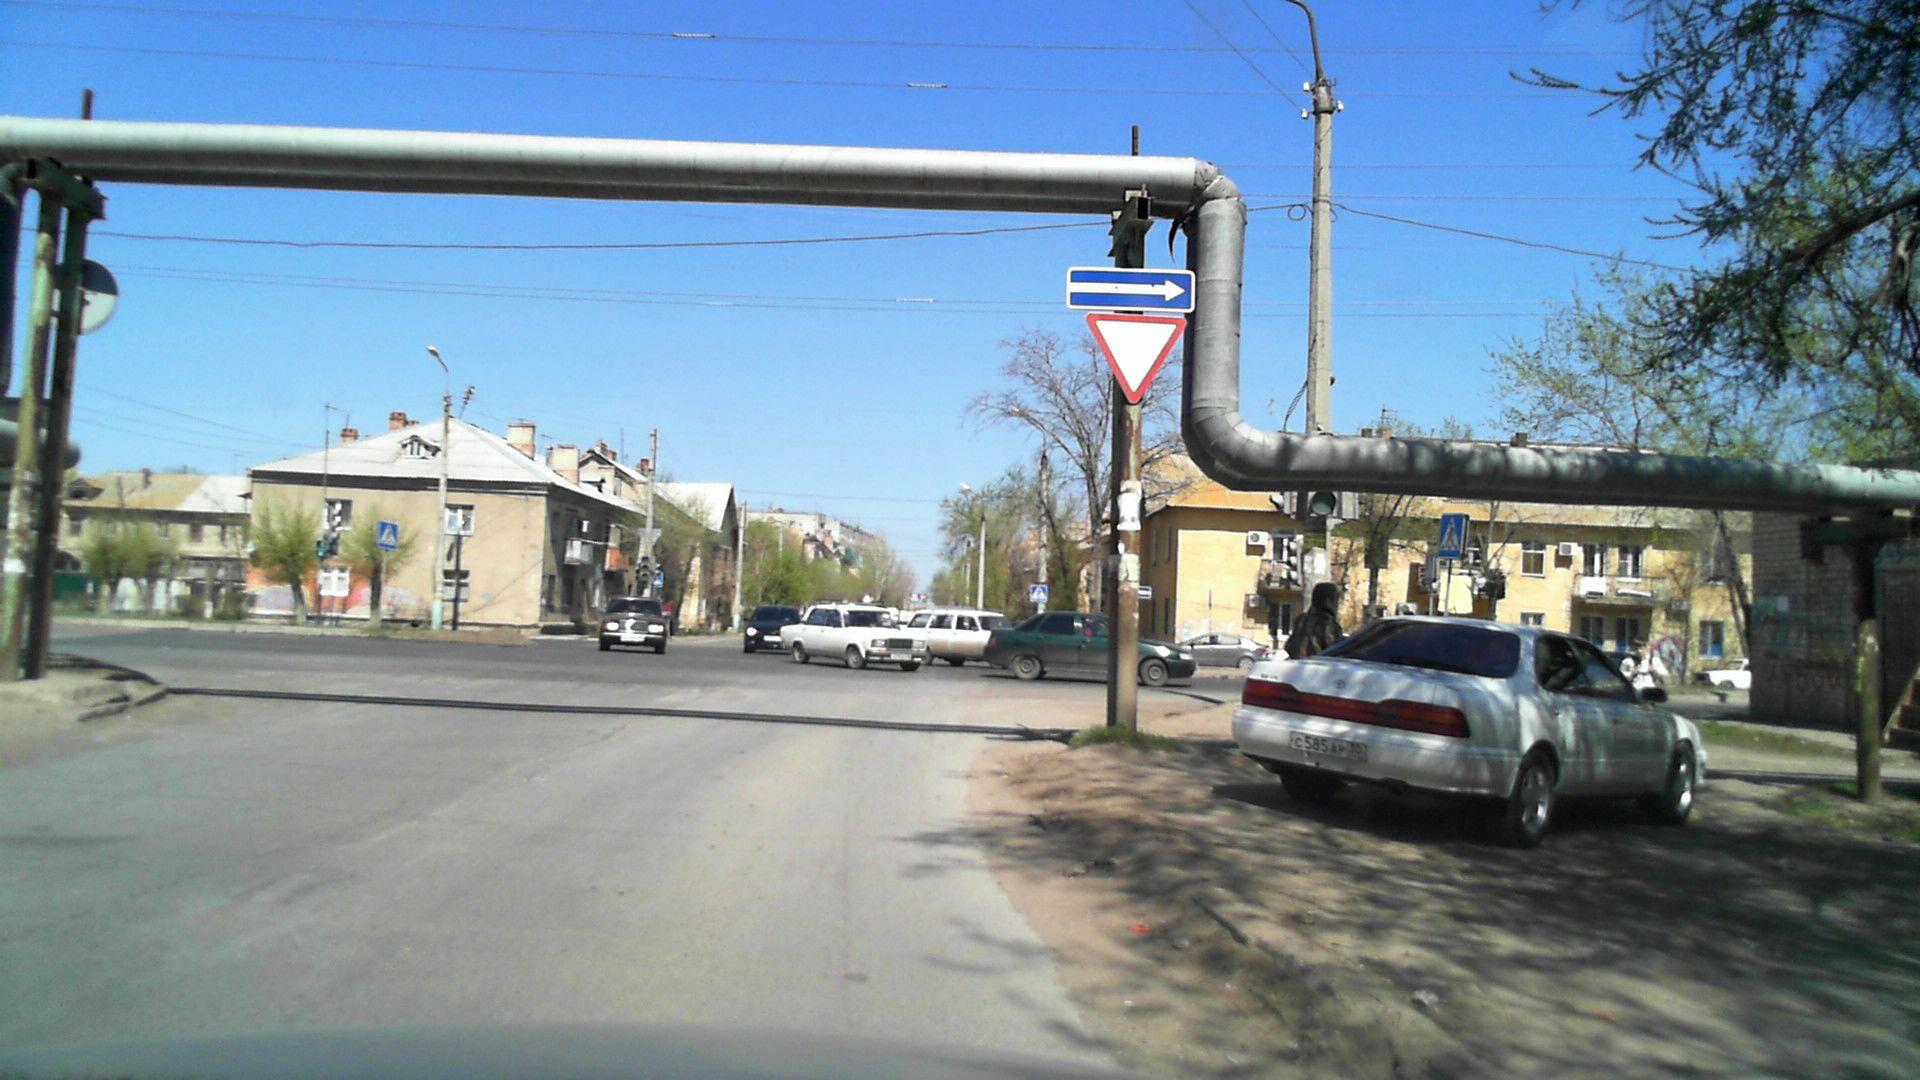2_4: (1080, 314, 1185, 402)
5_19_1: (1437, 516, 1468, 559), (1030, 582, 1051, 604)
5_19_2: (376, 521, 404, 551), (651, 570, 665, 589)
5_7_1: (1065, 266, 1195, 313)
5_7_2: (1137, 584, 1156, 600)
